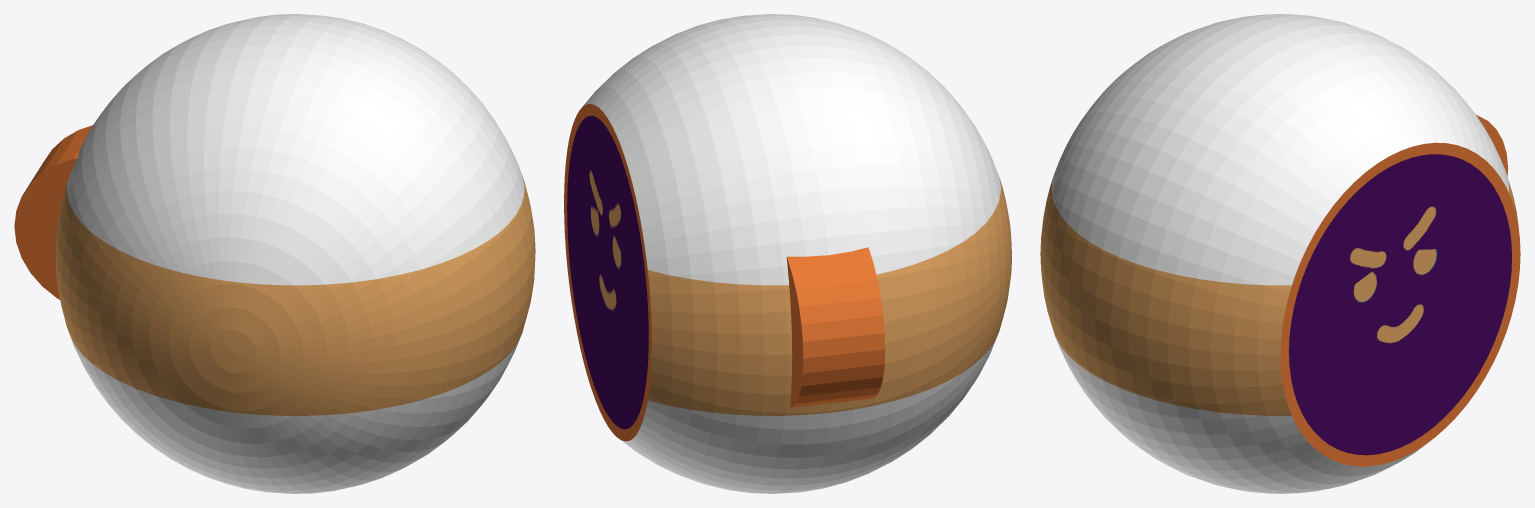
File: mendy.glb
3 views of the same model, side by side, from view 1: azimuth 30°, elevation 25°; view 2: azimuth 150°, elevation 25°; view 3: azimuth 270°, elevation 25° (orthographic).
Parts seen in each view (by area): view 1: Sphere; view 2: Sphere; view 3: Sphere.
Part boxes in pixels (x1,y1,x2,y2): Sphere: (14,14,535,493); Sphere: (564,14,1011,493); Sphere: (1040,14,1520,493).
Bounding box in the file's own units: 2 × 2 × 2.
Materials: 1 (1 with a texture image).
